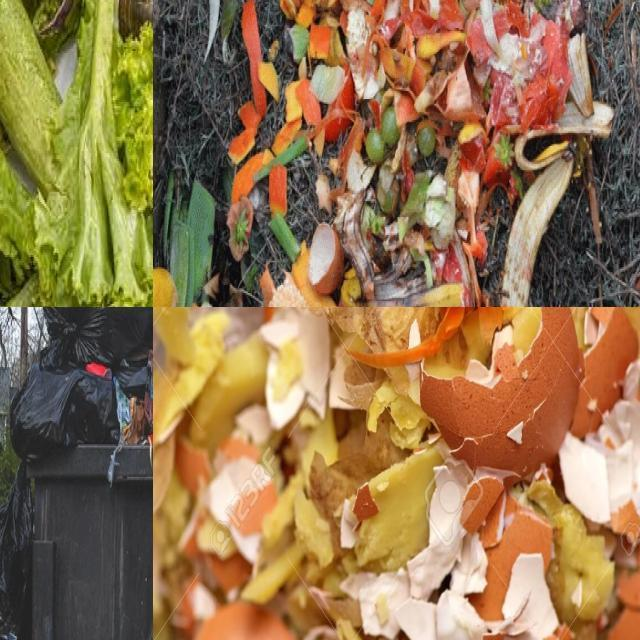Garbage: (153, 307, 640, 640), (153, 0, 640, 307), (11, 307, 153, 460)
Plastic_Bag: (11, 364, 120, 460), (43, 307, 153, 367)
